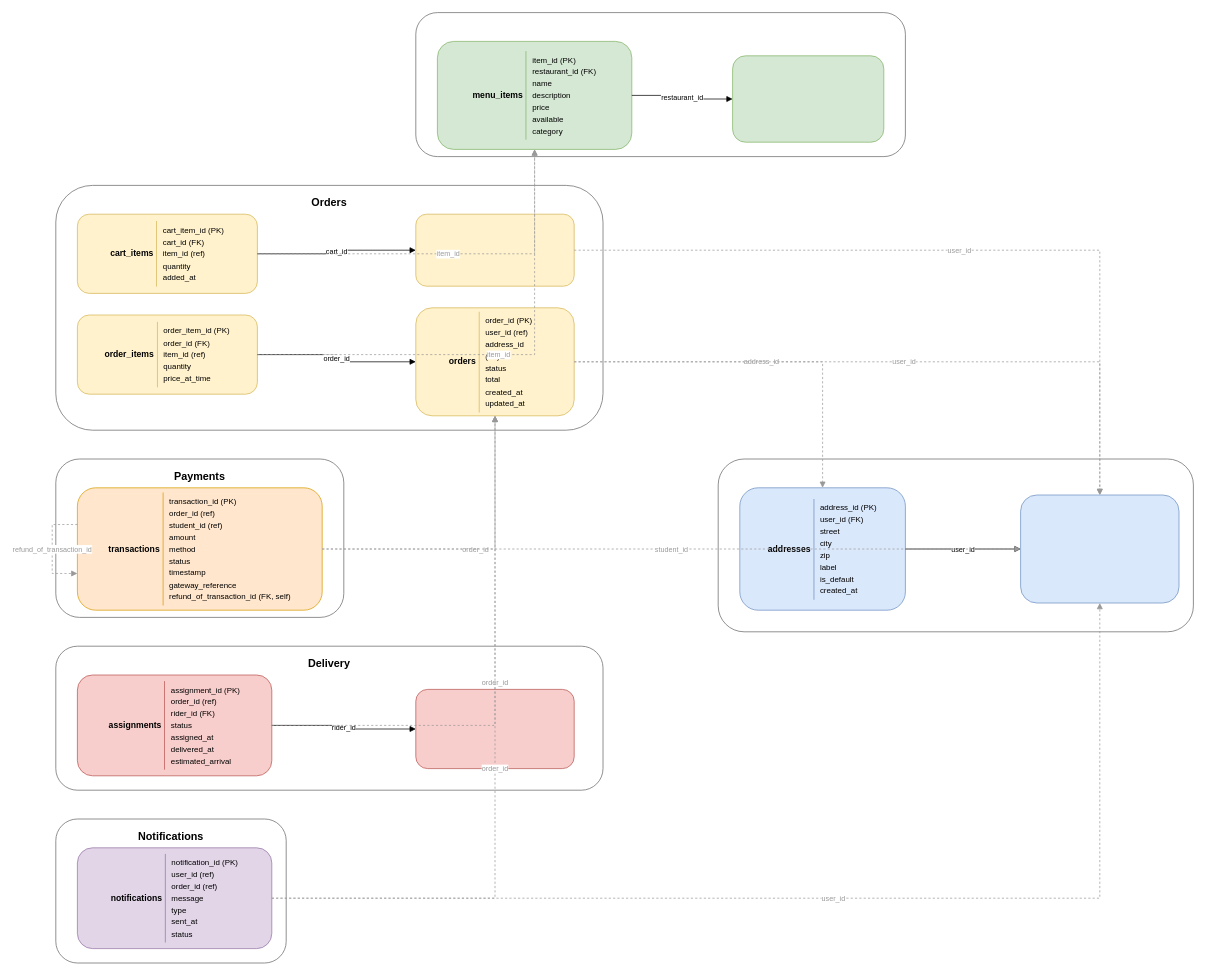
This 1206x976 diagram has some shape labels left out. Each missing label, with the box of its shape:
Accounts: (717, 458, 1193, 632)
carts cart_id (PK) user_id (ref) created_at last_updated: (415, 213, 574, 286)
Catalogue: (415, 12, 905, 157)
restaurants restaurant_id (PK) name location phone opening_hours: (732, 55, 884, 142)
riders rider_id (PK) name phone vehicle available: (415, 689, 574, 769)
users user_id (PK) name email password_hash phone created_at: (1020, 494, 1179, 603)
